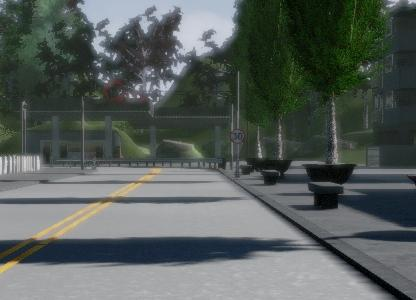Speed_30: (240, 108, 278, 151)
